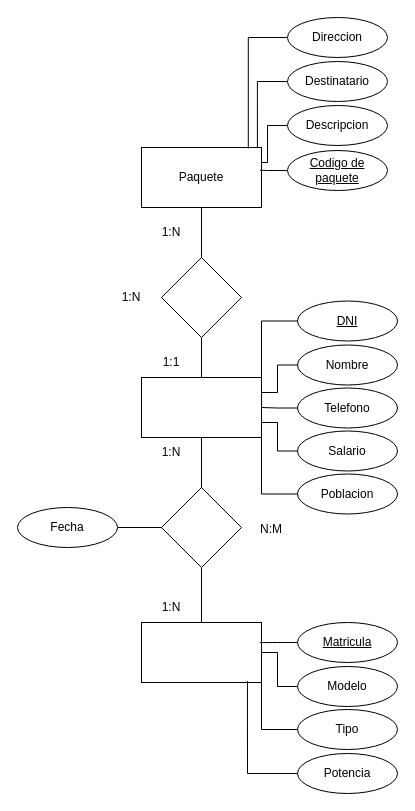
Image size: 415x811. Some labels were removed from this diagram. Here are the shapes that lost their labels. From the top down, the centre of each, then its label:
(201,297): lleva
(201,407): Camionero
(201,527): conduce
(201,652): Camion
